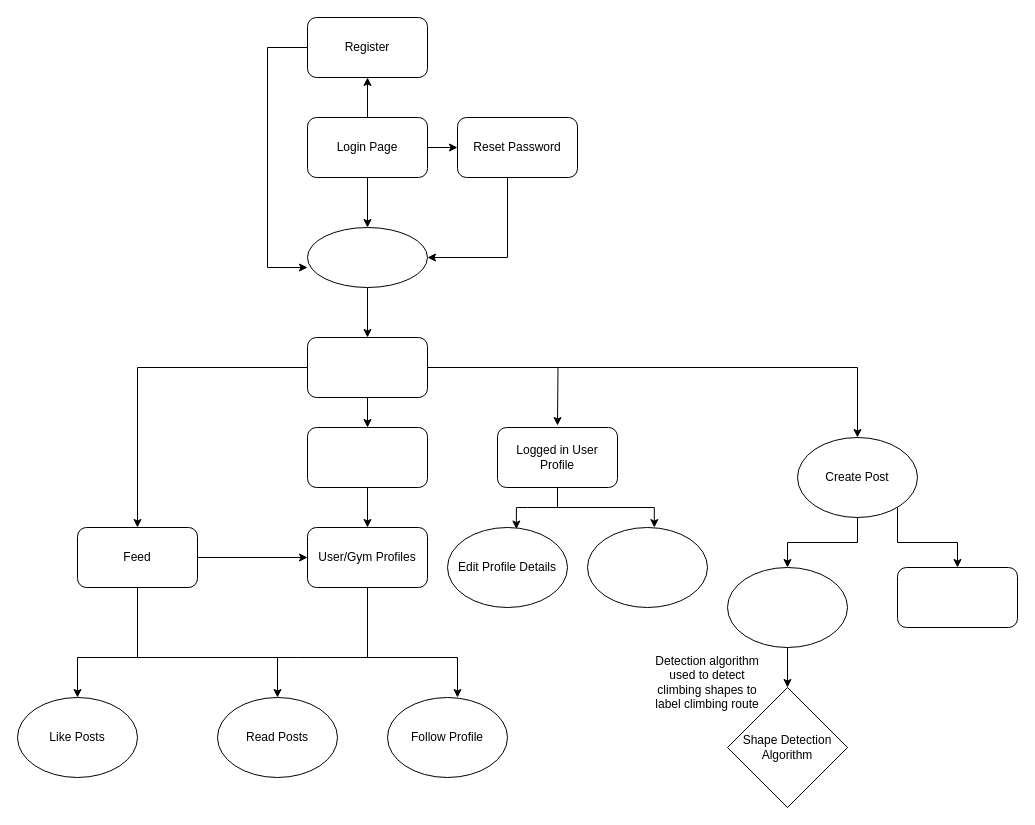
Some shapes in this 1035 by 825 pixel diagram are drawn without their labels. The shapes that lost their labels are listed below. From the top down, each one's centre as x and y in pixels, then its label:
(x=367, y=257): Login
(x=367, y=367): Home Page
(x=367, y=457): Search
(x=647, y=567): Edit Post
(x=787, y=607): Create Route
(x=957, y=597): Use existing route
